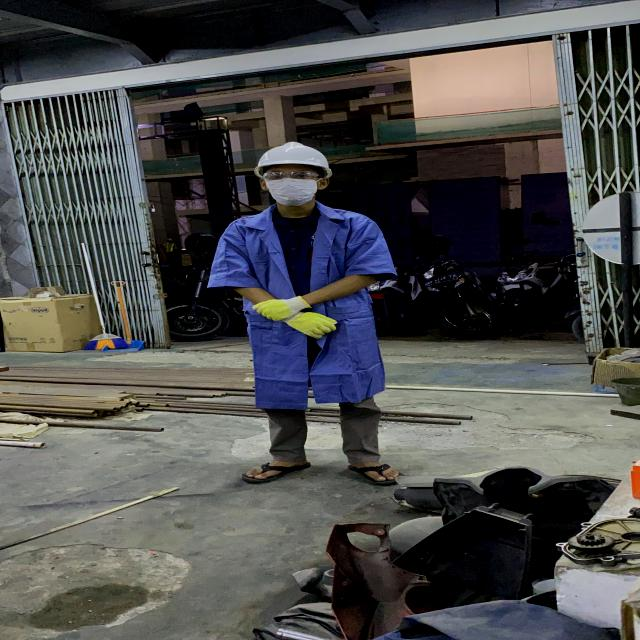face_mask: (263, 166, 321, 203)
glasses: (258, 169, 324, 183)
hand_glove: (286, 311, 341, 341), (250, 295, 301, 325)
head_helmet: (250, 141, 333, 172)
person: (208, 140, 401, 488)
